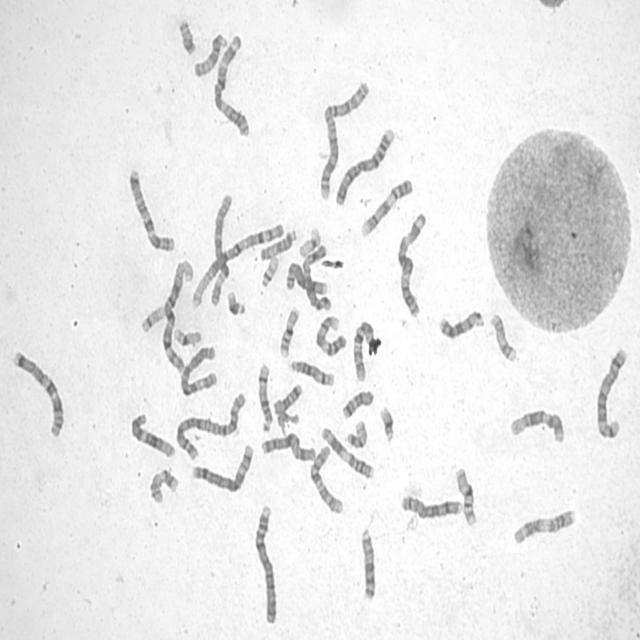A1: (189, 220, 286, 310), (158, 256, 194, 375)
A2: (316, 77, 371, 203), (174, 388, 248, 462)
A3: (210, 31, 252, 138), (395, 208, 428, 319)
B4: (332, 124, 396, 207), (252, 502, 280, 626)
B5: (189, 441, 255, 494), (594, 344, 628, 441)
C10: (308, 442, 345, 516), (350, 317, 378, 384)
C11: (318, 423, 376, 481), (510, 504, 578, 546)
C12: (128, 409, 176, 460), (508, 405, 566, 445)
C6: (209, 189, 235, 310), (178, 342, 218, 398)
C7: (10, 346, 66, 439), (126, 165, 176, 254)
C8: (398, 491, 464, 521), (283, 258, 330, 297)
C9: (358, 174, 414, 240), (314, 312, 348, 358)
D13: (436, 306, 486, 342), (358, 524, 377, 602)
D14: (287, 356, 336, 388), (256, 360, 274, 435)
D15: (191, 29, 229, 79), (257, 224, 298, 261)
E16: (453, 464, 478, 528), (277, 304, 301, 359)
E17: (488, 310, 518, 364), (147, 465, 180, 506)
E18: (340, 386, 375, 421), (271, 381, 303, 414)
F19: (297, 223, 322, 258), (171, 324, 202, 349)
F20: (343, 418, 369, 450), (178, 18, 196, 56)
G21: (378, 403, 397, 445), (224, 288, 247, 318)
G22: (138, 301, 166, 335), (258, 252, 281, 289)
X: (302, 243, 332, 315), (258, 430, 318, 464)
